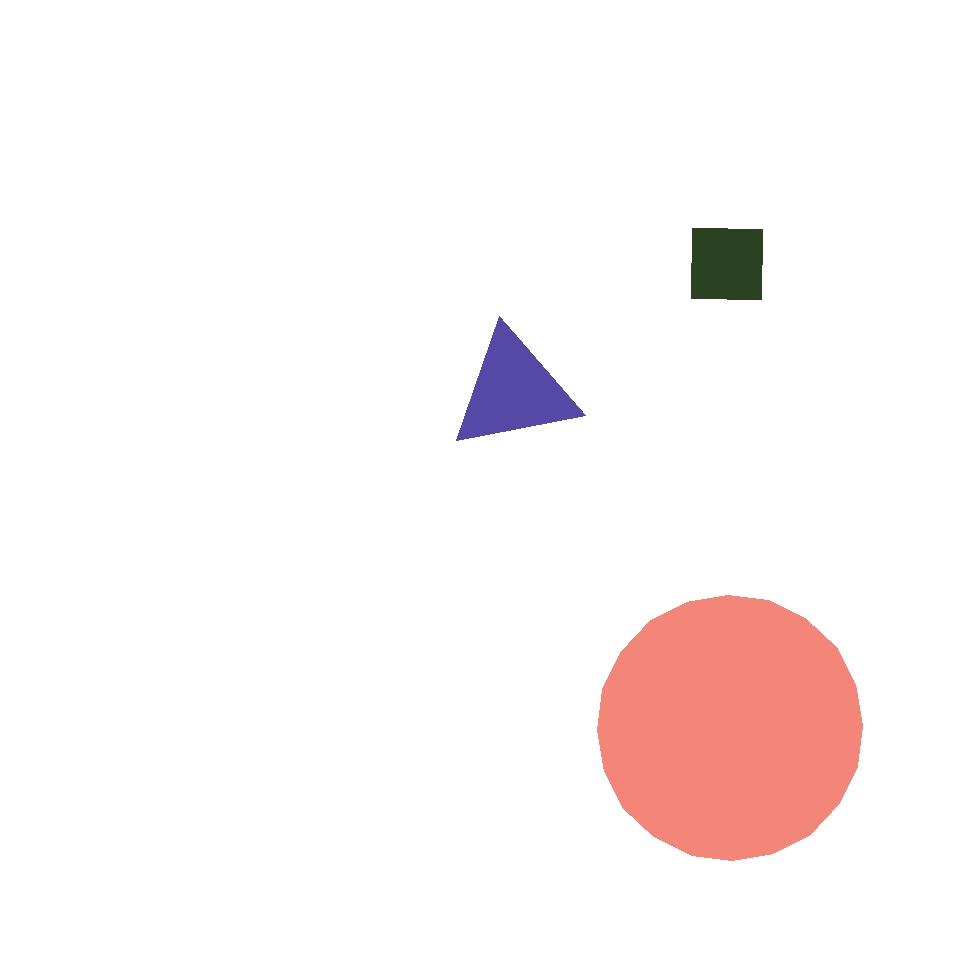circle: (443, 84, 761, 390), (450, 329, 578, 453)
square: (606, 386, 892, 670), (692, 228, 762, 300)
triangle: (597, 595, 862, 860)
